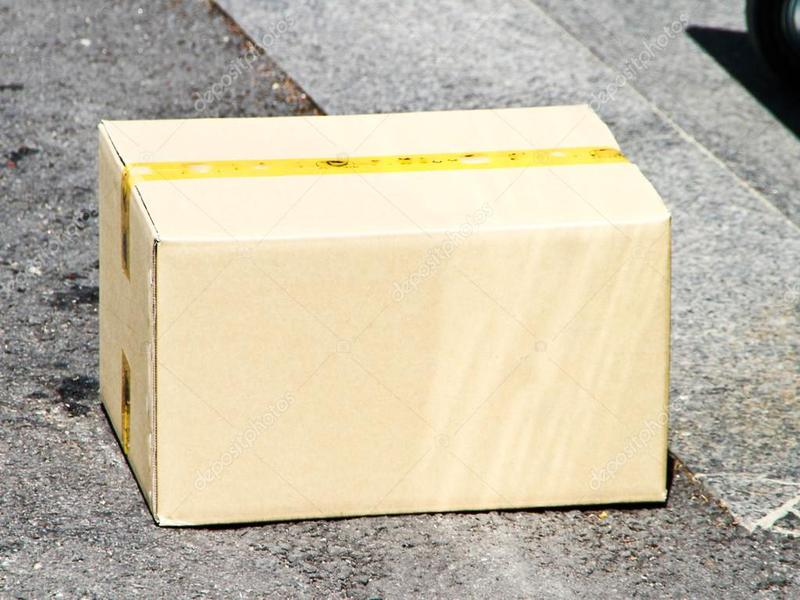cardboard: (72, 94, 680, 536)
